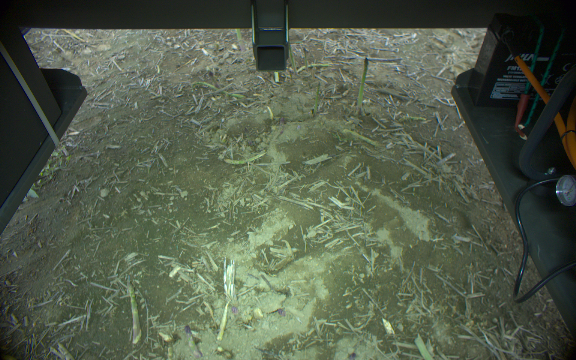aspa: (124, 282, 143, 345), (357, 57, 370, 116), (182, 322, 202, 359), (286, 41, 298, 77), (313, 80, 322, 114), (232, 27, 244, 48), (300, 47, 310, 72)
